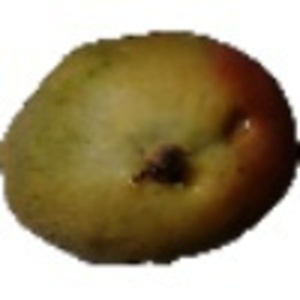mamão: (1, 19, 297, 272)
